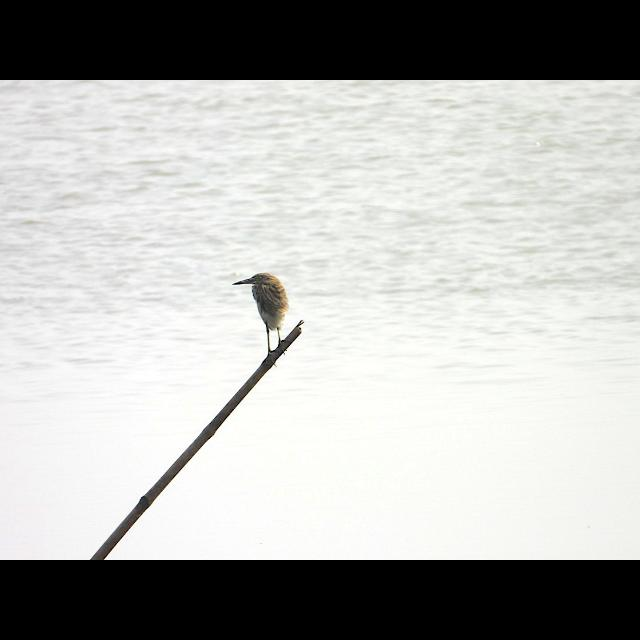heron: (227, 272, 299, 356)
